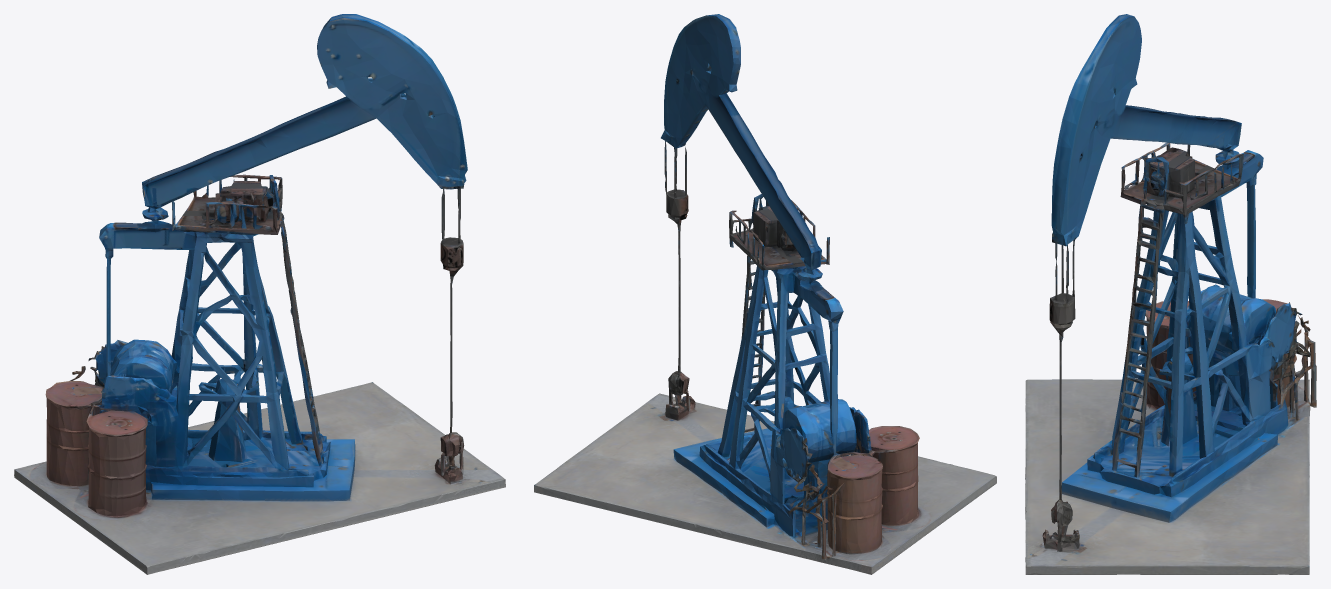
The model's file is OilRig.fbx.
The picture shows the model from 3 angles, left to right: view 1: azimuth 30°, elevation 25°; view 2: azimuth 150°, elevation 25°; view 3: azimuth 270°, elevation 25°; orthographic projection. The views are drawn at different scales.
Parts seen in each view (by area): view 1: temp; view 2: temp; view 3: temp.
Part boxes in pixels (x1=…): temp: x1=14, y1=14, x2=505, y2=574; temp: x1=534, y1=14, x2=996, y2=574; temp: x1=1025, y1=14, x2=1316, y2=574.
Bounding box in the file's own units: 161 × 200 × 106.
Materials: 1 (1 with a texture image).
